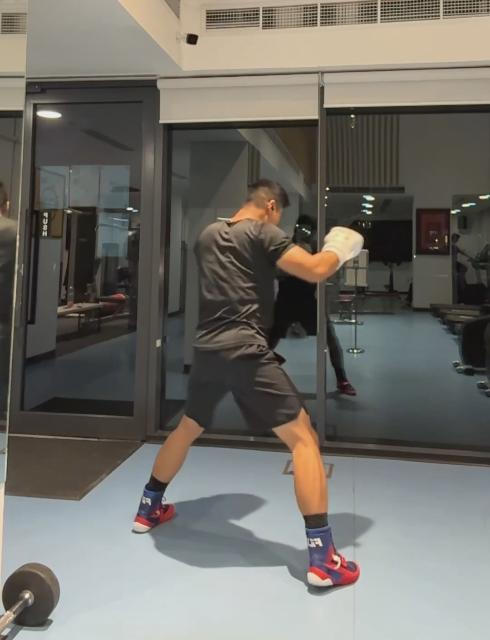punch: (130, 176, 364, 592)
